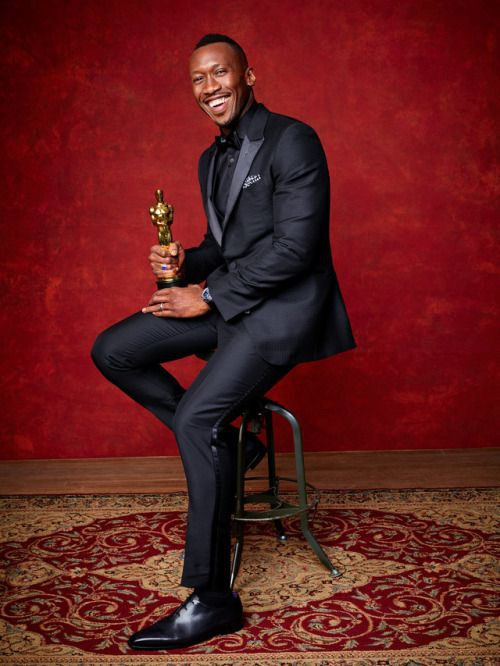hand: (142, 284, 213, 315)
